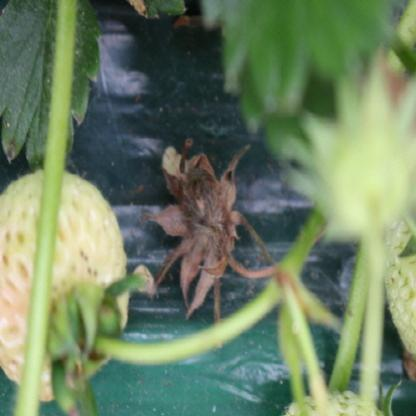Strawberry_Gray_Mold: (142, 138, 272, 324)
